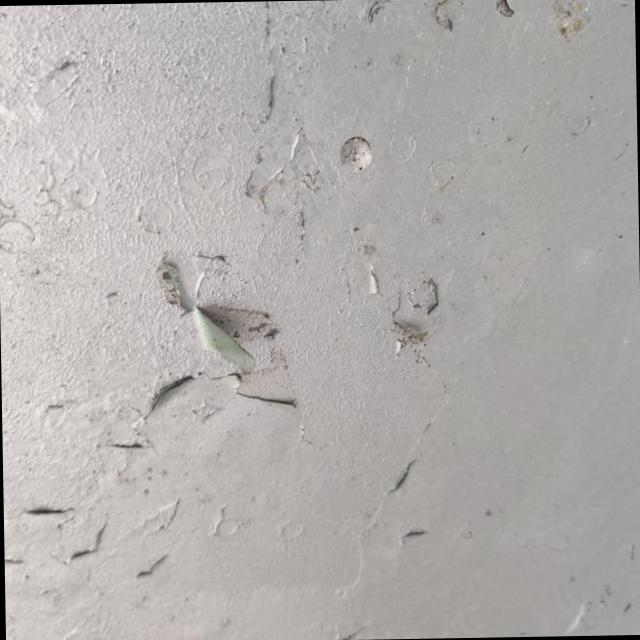Paint-off: (159, 261, 294, 404)
